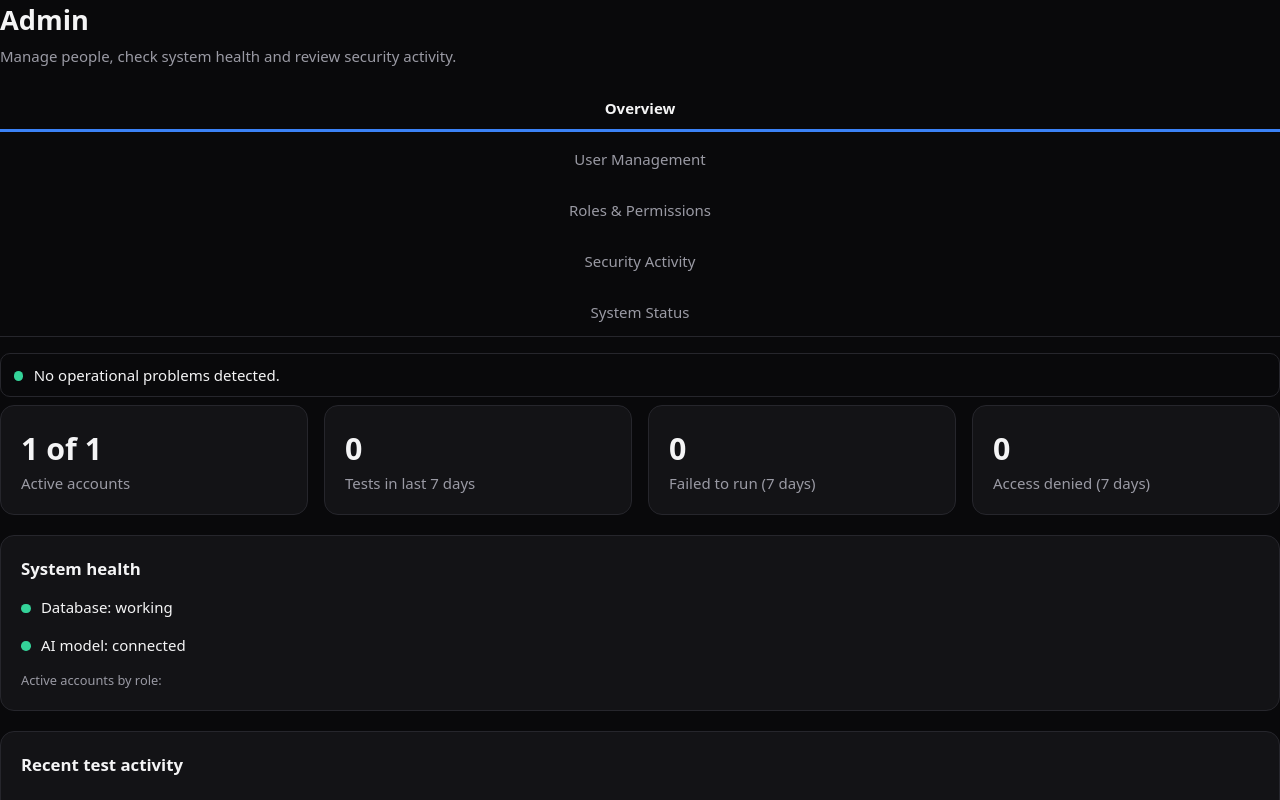
Scenario: Admin console › lists every admin section and explains roles in plain English
What coordinates should you click on to do the following:
click the button "Roles & Permissions"
I would click on:
 (640, 212)
Its box is [0, 190, 1279, 234].
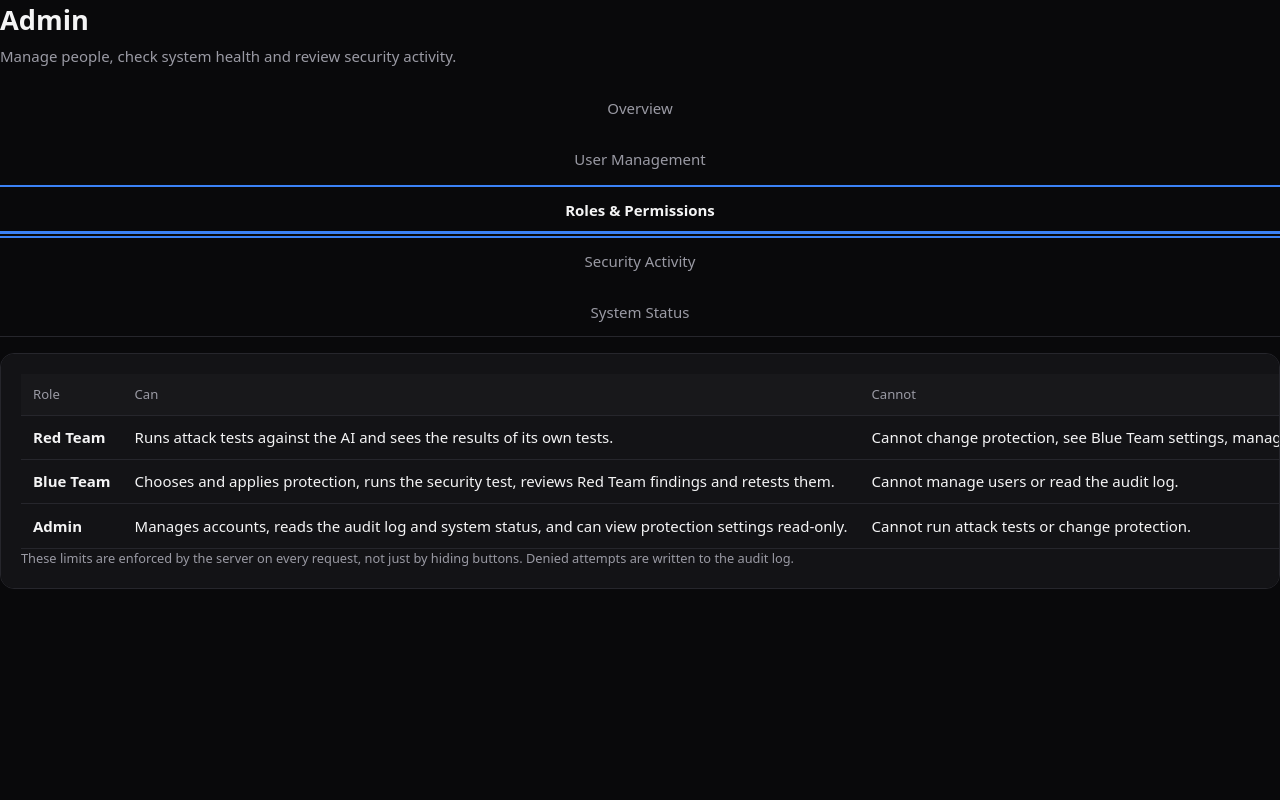
Expected: the text "enforced by the server on every request" is shown, [21, 549, 794, 567]
